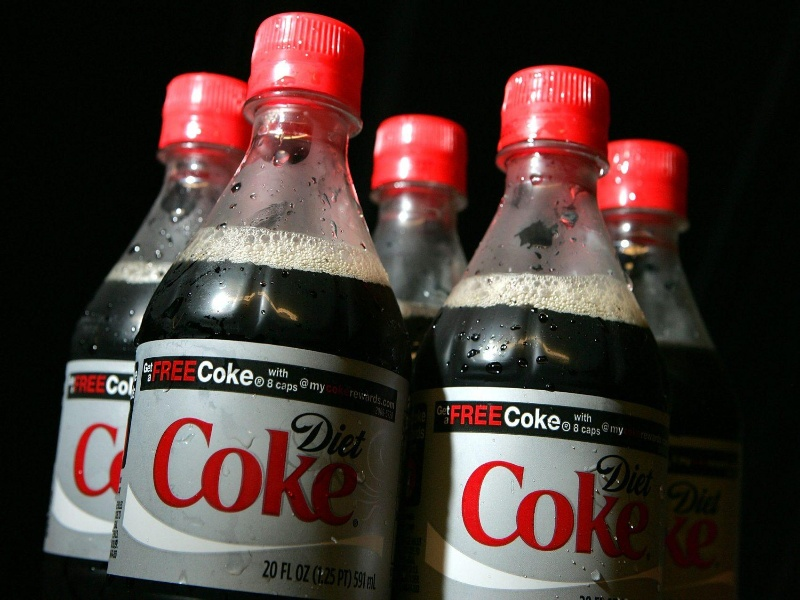Plastic bottle: (151, 14, 449, 600), (391, 37, 661, 599), (33, 39, 280, 579), (557, 106, 753, 562), (341, 100, 480, 355)
